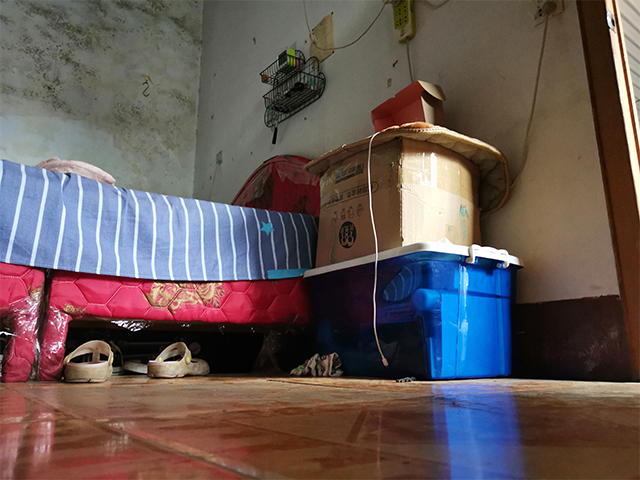bed: (1, 157, 318, 383)
slippers: (60, 339, 115, 386), (145, 341, 211, 379)
socks: (287, 351, 347, 378)
wire: (366, 1, 563, 368)
